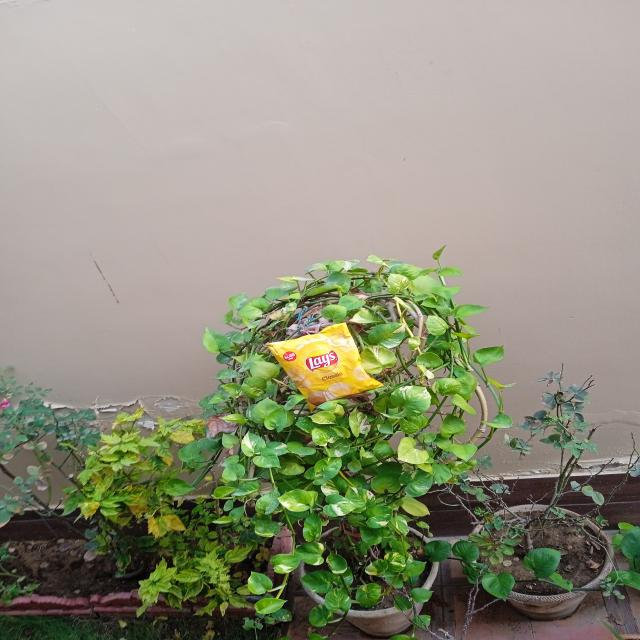Plastic: (258, 318, 388, 409)
